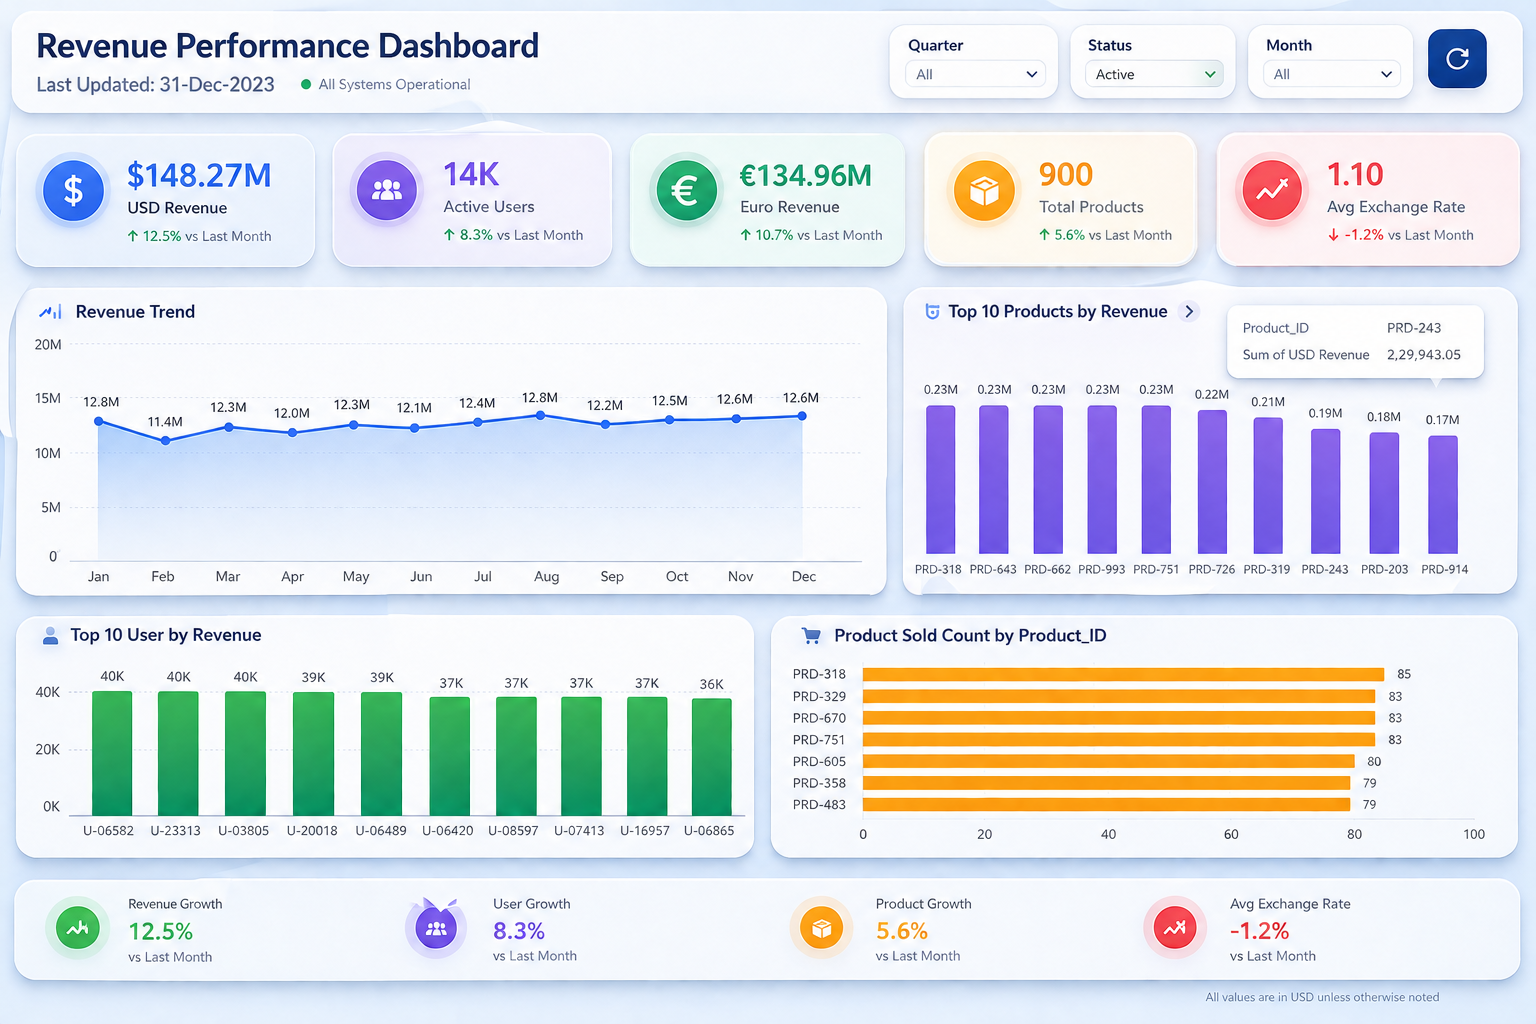

Layout of this report page (visuals, bound fields, positions):
{"tool":"powerbi","page":{"name":"Page 1","canvas":[1280,720],"ordinal":0},"visuals":[{"type":"cardVisual","fields":{"Data":["power_bi_ready_dataset.💰 USD Revenue"]},"box":[9.6,127.6,238.8,98.8],"z":0},{"type":"cardVisual","fields":{"Data":["power_bi_ready_dataset.Total Active Users"]},"box":[260.7,127.6,244.3,98.8],"z":1000},{"type":"cardVisual","fields":{"Data":["power_bi_ready_dataset.Total Products"]},"box":[769.8,127.6,237.4,98.8],"z":2000},{"type":"slicer","title":"Quarter","fields":{"Values":["power_bi_ready_dataset.Date.Variation.Date Hierarchy.Quarter"]},"box":[758.8,27.4,171.5,67.2],"z":3000},{"type":"slicer","title":"Status","fields":{"Values":["power_bi_ready_dataset.status"]},"box":[961.9,26.1,149.6,67.2],"z":4000},{"type":"cardVisual","fields":{"Data":["power_bi_ready_dataset.Avg Exchange Rate"]},"box":[1027.8,127.6,236,98.8],"z":5000},{"type":"lineChart","title":"Revenue trend ","fields":{"Category":["power_bi_ready_dataset.Date.Variation.Date Hierarchy.Month"],"Y":["Sum(power_bi_ready_dataset.USD_Revenue)"]},"box":[0,248.4,749.2,222.3],"z":6000},{"type":"clusteredColumnChart","title":"Top 10 products by revenue","fields":{"Category":["power_bi_ready_dataset.Product_ID"],"Y":["Sum(power_bi_ready_dataset.USD_Revenue)"]},"box":[769.8,248.4,494,222.3],"z":7000},{"type":"columnChart","title":"top 10 User by revenue","fields":{"Category":["power_bi_ready_dataset.User_ID"],"Y":["Sum(power_bi_ready_dataset.USD_Revenue)"]},"box":[9.6,480.3,618.9,230.5],"z":8000},{"type":"clusteredBarChart","fields":{"Y":["power_bi_ready_dataset.Product Sold Count"],"Category":["power_bi_ready_dataset.Product_ID"]},"box":[639.5,480.3,624.4,230.5],"z":9000},{"type":"cardVisual","fields":{"Data":["power_bi_ready_dataset.€ Euro revenue"]},"box":[517.3,127.6,241.5,98.8],"z":10000},{"type":"slicer","title":"Month","fields":{"Values":["power_bi_ready_dataset.Date","power_bi_ready_dataset.Date.Variation.Date Hierarchy.Month"]},"box":[1122.5,26.1,141.3,67.2],"z":11000},{"type":"shape","box":[9.6,9.6,739.6,101.5],"z":12000}]}

Visuals, with their boxes on the page's 1280x720 design canvas (x1, y1, x2, y2). These are canvas units, not pixel positions in the 1536x1024 screenshot, which may show the page scaled, cropped or inside an application window:
cardVisual - power_bi_ready_dataset.💰 USD Revenue: rect(10, 128, 248, 226)
cardVisual - power_bi_ready_dataset.Total Active Users: rect(261, 128, 505, 226)
cardVisual - power_bi_ready_dataset.Total Products: rect(770, 128, 1007, 226)
"Quarter" slicer: rect(759, 27, 930, 95)
"Status" slicer: rect(962, 26, 1112, 93)
cardVisual - power_bi_ready_dataset.Avg Exchange Rate: rect(1028, 128, 1264, 226)
"Revenue trend " lineChart: rect(0, 248, 749, 471)
"Top 10 products by revenue" clusteredColumnChart: rect(770, 248, 1264, 471)
"top 10 User by revenue" columnChart: rect(10, 480, 628, 711)
clusteredBarChart - power_bi_ready_dataset.Product Sold Count x power_bi_ready_dataset.Product_ID: rect(640, 480, 1264, 711)
cardVisual - power_bi_ready_dataset.€ Euro revenue: rect(517, 128, 759, 226)
"Month" slicer: rect(1122, 26, 1264, 93)
shape: rect(10, 10, 749, 111)
